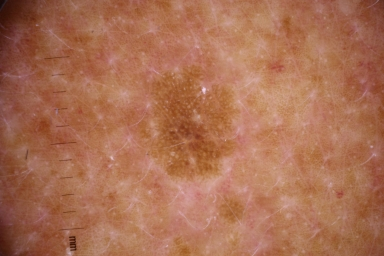melanoma: (150, 70, 239, 172)
